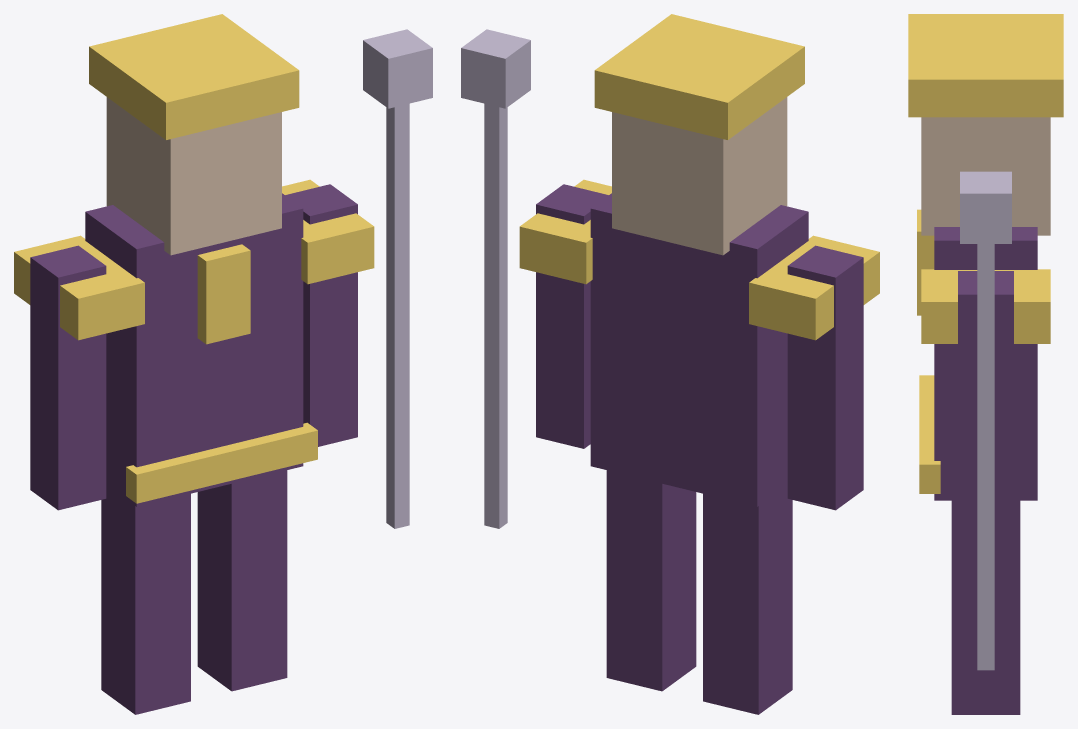
The model's file is 03_thorne_frostrelay_tactician_from_emergency.glb.
The picture shows the model from 3 angles, left to right: view 1: azimuth 30°, elevation 25°; view 2: azimuth 150°, elevation 25°; view 3: azimuth 270°, elevation 25°; orthographic projection.
Parts seen in each view (by area): view 1: Thorne Frostrelay, Tactician from Emergency; view 2: Thorne Frostrelay, Tactician from Emergency; view 3: Thorne Frostrelay, Tactician from Emergency.
Boxes of the visible parts, <box> form: Thorne Frostrelay, Tactician from Emergency: <box>14,14,432,714</box>; Thorne Frostrelay, Tactician from Emergency: <box>461,14,879,714</box>; Thorne Frostrelay, Tactician from Emergency: <box>908,14,1063,714</box>.
Bounding box in the file's own units: 0.9419 × 1.5 × 0.3341.
